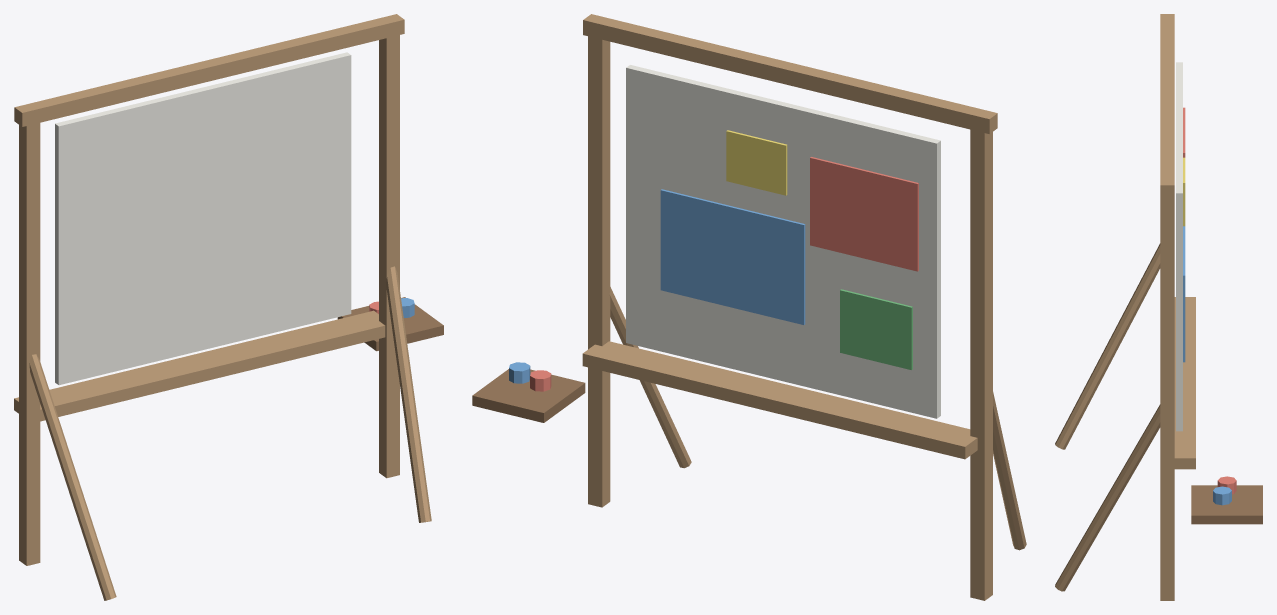
The model's file is easel_large.glb.
The picture shows the model from 3 angles, left to right: view 1: azimuth 30°, elevation 25°; view 2: azimuth 150°, elevation 25°; view 3: azimuth 270°, elevation 25°; orthographic projection. The views are drawn at different scales.
Visible parts, largest first — view 1: easel_large; view 2: easel_large; view 3: easel_large.
Boxes of the visible parts, x1,y1,x2,y2 form: easel_large: [14, 14, 443, 600]; easel_large: [472, 14, 1026, 600]; easel_large: [1055, 14, 1262, 600].
Size of the model in its own units: 1.95 by 1.94 by 0.8712.
